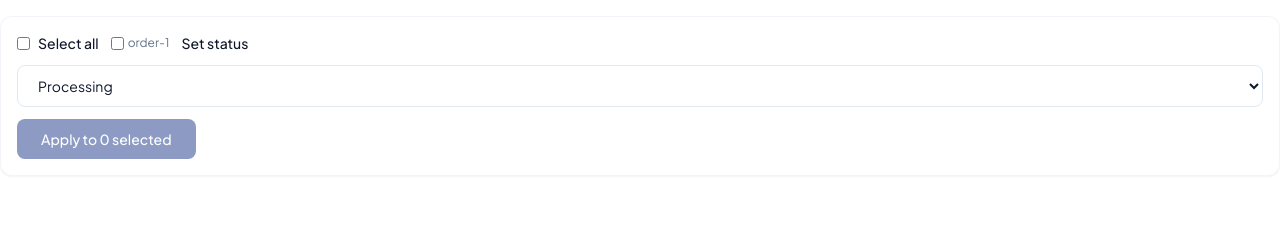
Test: BulkOrderActions › shows the error returned by the action instead of silently failing
Click the checkbox named "Select order order-1".
click(117, 43)  # box [111,36,124,50]
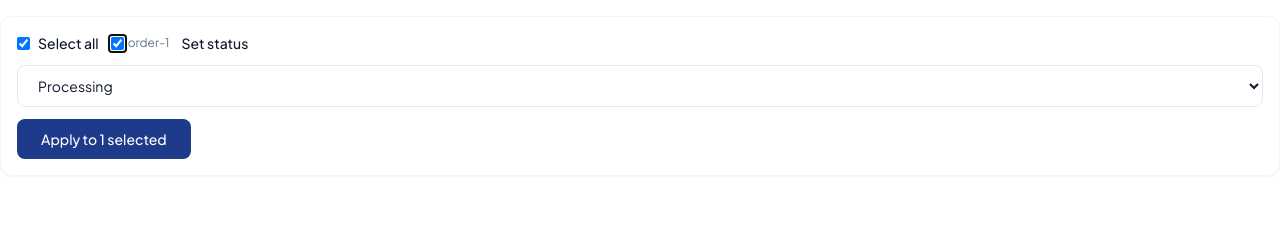
Click the button "Apply to 1 selected".
click(104, 139)  # box [17,119,191,159]
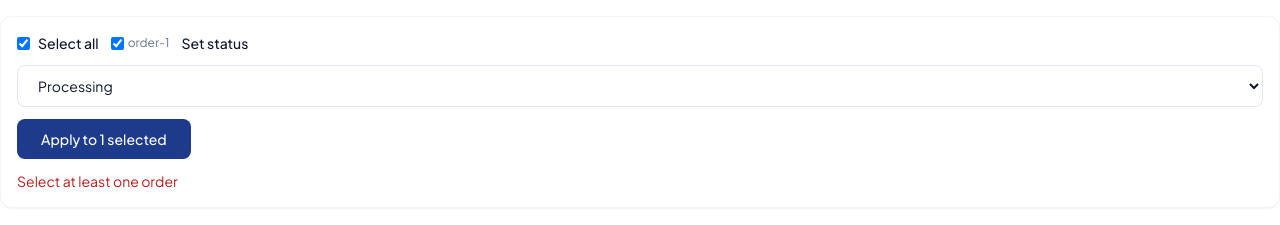
Result: the message reads "Select at least one order" at [17,172,178,190]
